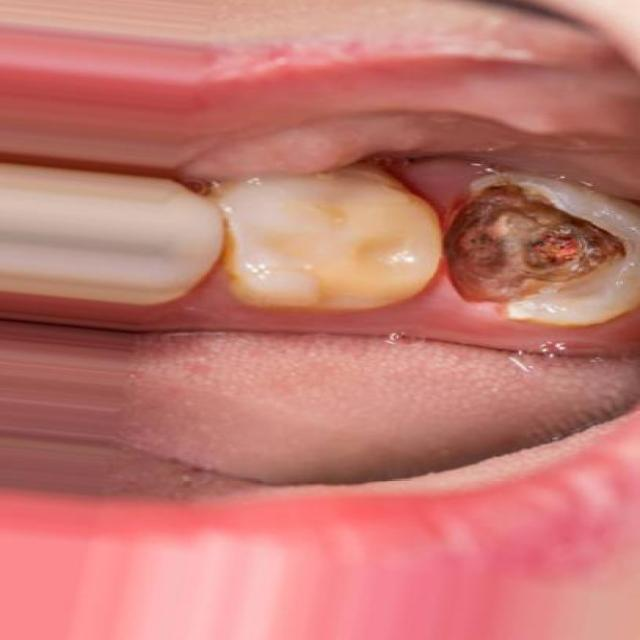caries: (417, 172, 636, 314)
